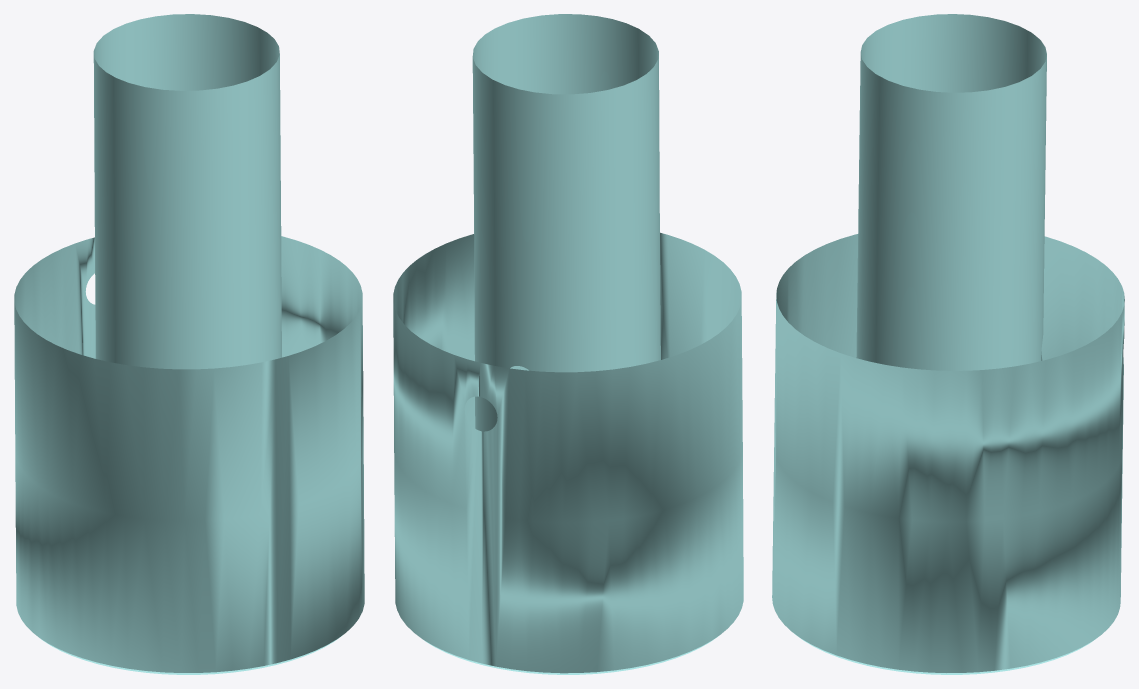
File: Quill.fbx
The picture shows the model from 3 angles, left to right: view 1: azimuth 30°, elevation 25°; view 2: azimuth 150°, elevation 25°; view 3: azimuth 270°, elevation 25°; orthographic projection.
Visible parts, largest first — view 1: Body2.116, Body1.292, Body3.046; view 2: Body2.116, Body1.292, Body3.046; view 3: Body2.116, Body1.292, Body3.046.
Part boxes in pixels (<box>): Body2.116: <box>14,236,364,672</box>; Body1.292: <box>93,14,281,369</box>; Body3.046: <box>40,635,342,674</box>; Body2.116: <box>393,232,743,673</box>; Body1.292: <box>472,14,660,431</box>; Body3.046: <box>424,636,718,674</box>; Body2.116: <box>772,234,1124,672</box>; Body1.292: <box>856,14,1046,370</box>; Body3.046: <box>794,633,1096,674</box>.
Bounding box in the file's own units: 4.6 × 8.04 × 4.65.
